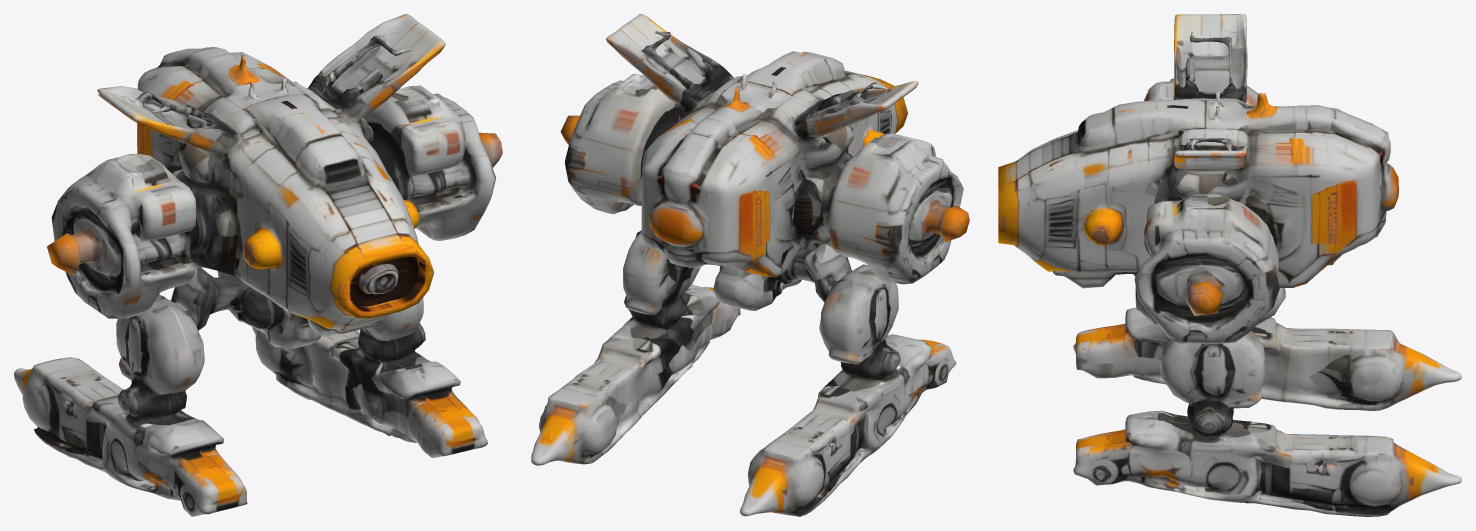
File: walker.glb
3 views of the same model, side by side, from view 1: azimuth 30°, elevation 25°; view 2: azimuth 150°, elevation 25°; view 3: azimuth 270°, elevation 25° (orthographic). The views are drawn at different scales.
Parts seen in each view (by area): view 1: model; view 2: model; view 3: model.
Part boxes in pixels (x1,y1,x2,y2): model: (14, 14, 502, 516); model: (531, 14, 969, 516); model: (998, 14, 1461, 516).
Size of the model in its own units: 1.89 by 1.67 by 1.89.
Materials: 1 (1 with a texture image).
